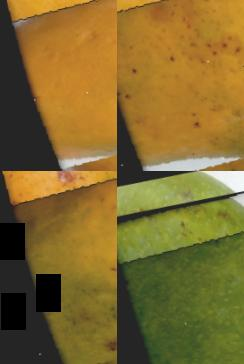PartiallyRipe: (0, 171, 117, 364), (117, 0, 244, 171)
Ripe: (0, 0, 117, 171)
Unripe: (117, 184, 244, 364)
